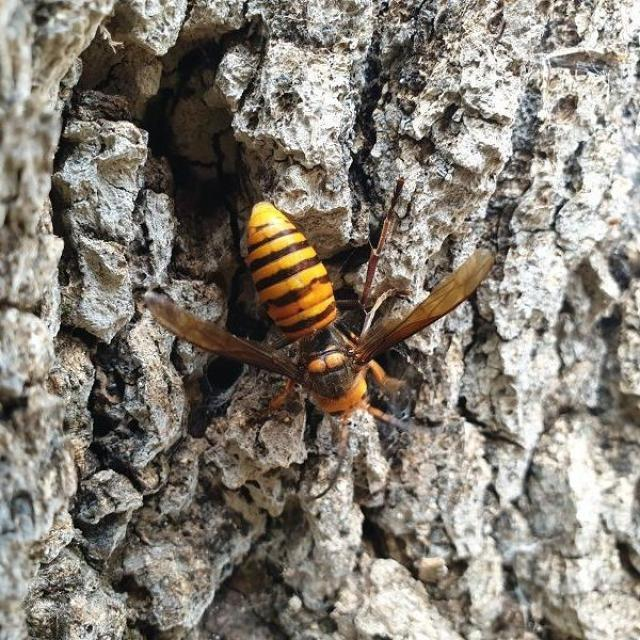Wasp: (162, 170, 492, 438)
